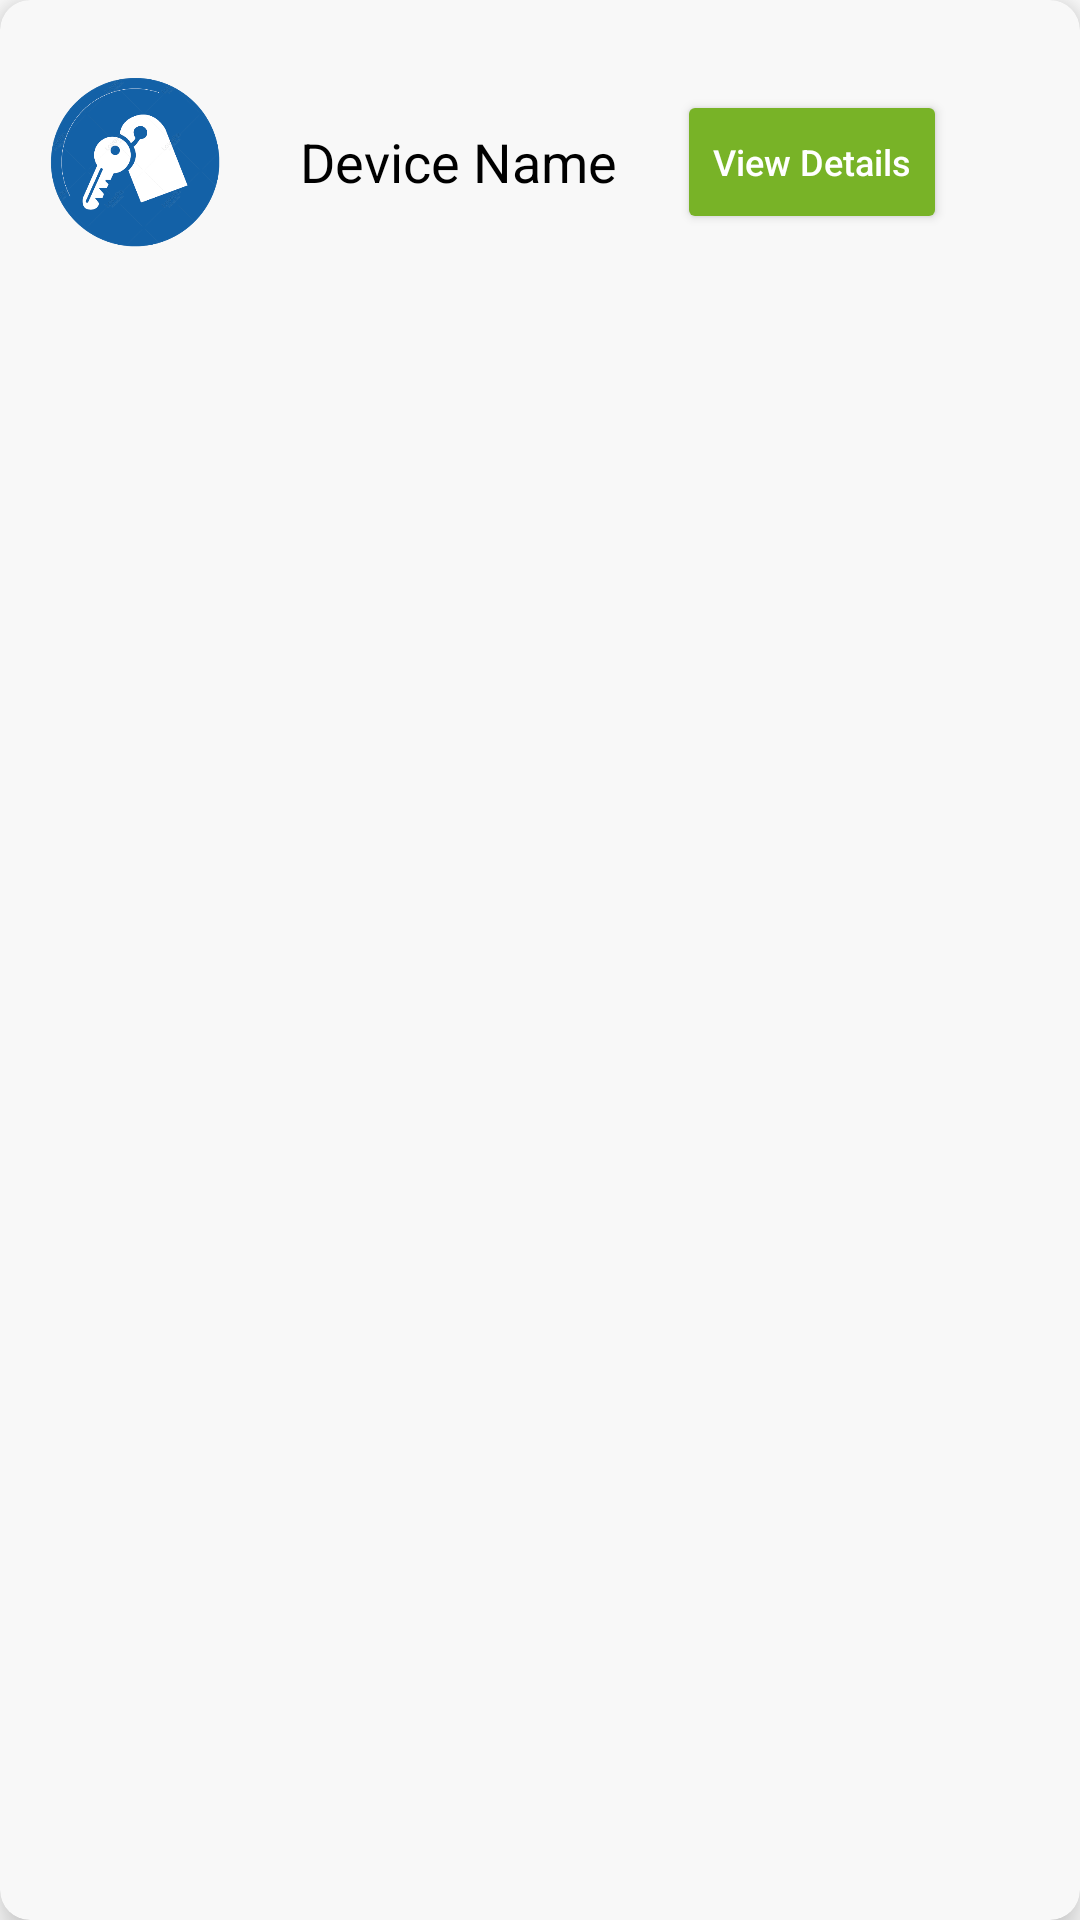

Icon click points for this 1080×1920 phone screenshot, format [x,y]:
key: [135,162]
